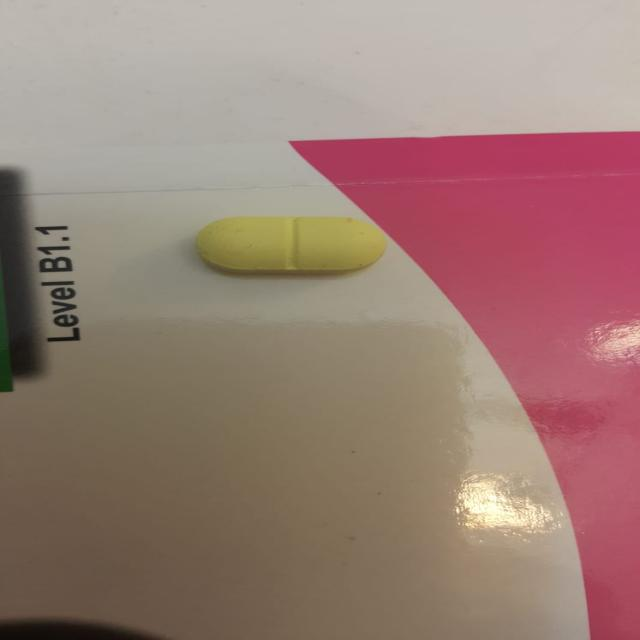pills: (174, 206, 408, 279)
